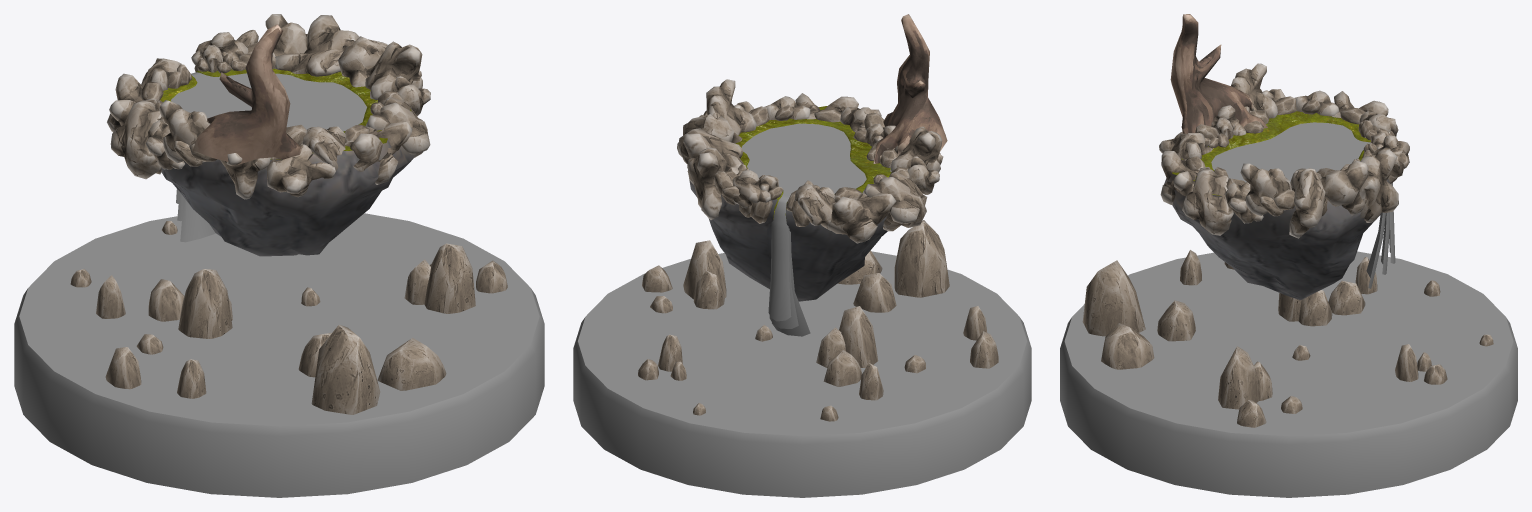
The model's file is ENV_Island_01.FBX.
The picture shows the model from 3 angles, left to right: view 1: azimuth 30°, elevation 25°; view 2: azimuth 150°, elevation 25°; view 3: azimuth 270°, elevation 25°; orthographic projection. The views are drawn at different scales.
Parts seen in each view (by area): view 1: ENV_SeaWater_01, ENV_Rocks_01, ENV_SeaCascade_01, ENV_Island_01, PRP_Tree_01, ENV_LakeWater_01, ENV_CascadeGround_01, ENV_CascadeWater_01; view 2: ENV_SeaWater_01, ENV_Rocks_01, ENV_SeaCascade_01, ENV_Island_01, ENV_LakeWater_01, PRP_Tree_01, ENV_CascadeWater_01, ENV_CascadeGround_01; view 3: ENV_SeaWater_01, ENV_Rocks_01, ENV_SeaCascade_01, ENV_Island_01, ENV_LakeWater_01, PRP_Tree_01, ENV_CascadeGround_01, ENV_CascadeWater_01.
Part boxes in pixels (x1=…): ENV_SeaWater_01: x1=19, y1=213, x2=539, y2=426; ENV_Rocks_01: x1=70, y1=14, x2=507, y2=414; ENV_SeaCascade_01: x1=14, y1=288, x2=544, y2=497; ENV_Island_01: x1=161, y1=139, x2=417, y2=256; PRP_Tree_01: x1=193, y1=24, x2=301, y2=164; ENV_LakeWater_01: x1=171, y1=73, x2=366, y2=131; ENV_CascadeGround_01: x1=160, y1=68, x2=411, y2=159; ENV_CascadeWater_01: x1=176, y1=72, x2=215, y2=242; ENV_SeaWater_01: x1=578, y1=251, x2=1026, y2=435; ENV_Rocks_01: x1=638, y1=79, x2=998, y2=421; ENV_SeaCascade_01: x1=573, y1=318, x2=1031, y2=497; ENV_Island_01: x1=689, y1=178, x2=887, y2=301; ENV_LakeWater_01: x1=742, y1=123, x2=866, y2=194; PRP_Tree_01: x1=873, y1=14, x2=947, y2=163; ENV_CascadeWater_01: x1=768, y1=193, x2=810, y2=336; ENV_CascadeGround_01: x1=735, y1=106, x2=891, y2=218; ENV_SeaWater_01: x1=1064, y1=251, x2=1513, y2=435; ENV_Rocks_01: x1=1082, y1=63, x2=1493, y2=427; ENV_SeaCascade_01: x1=1060, y1=317, x2=1517, y2=497; ENV_Island_01: x1=1164, y1=173, x2=1390, y2=300; ENV_LakeWater_01: x1=1211, y1=122, x2=1370, y2=182; PRP_Tree_01: x1=1170, y1=14, x2=1267, y2=133; ENV_CascadeGround_01: x1=1172, y1=111, x2=1370, y2=195; ENV_CascadeWater_01: x1=1366, y1=183, x2=1395, y2=288.
Bounding box in the file's own units: 69.71 × 60.67 × 69.71.
